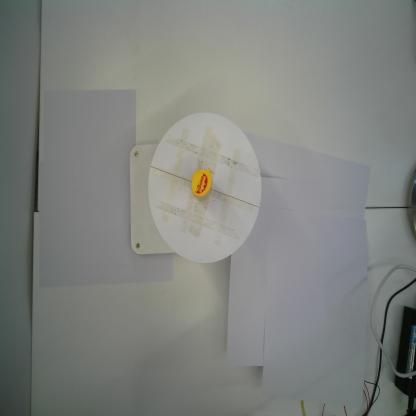Candy: (190, 167, 214, 201)
